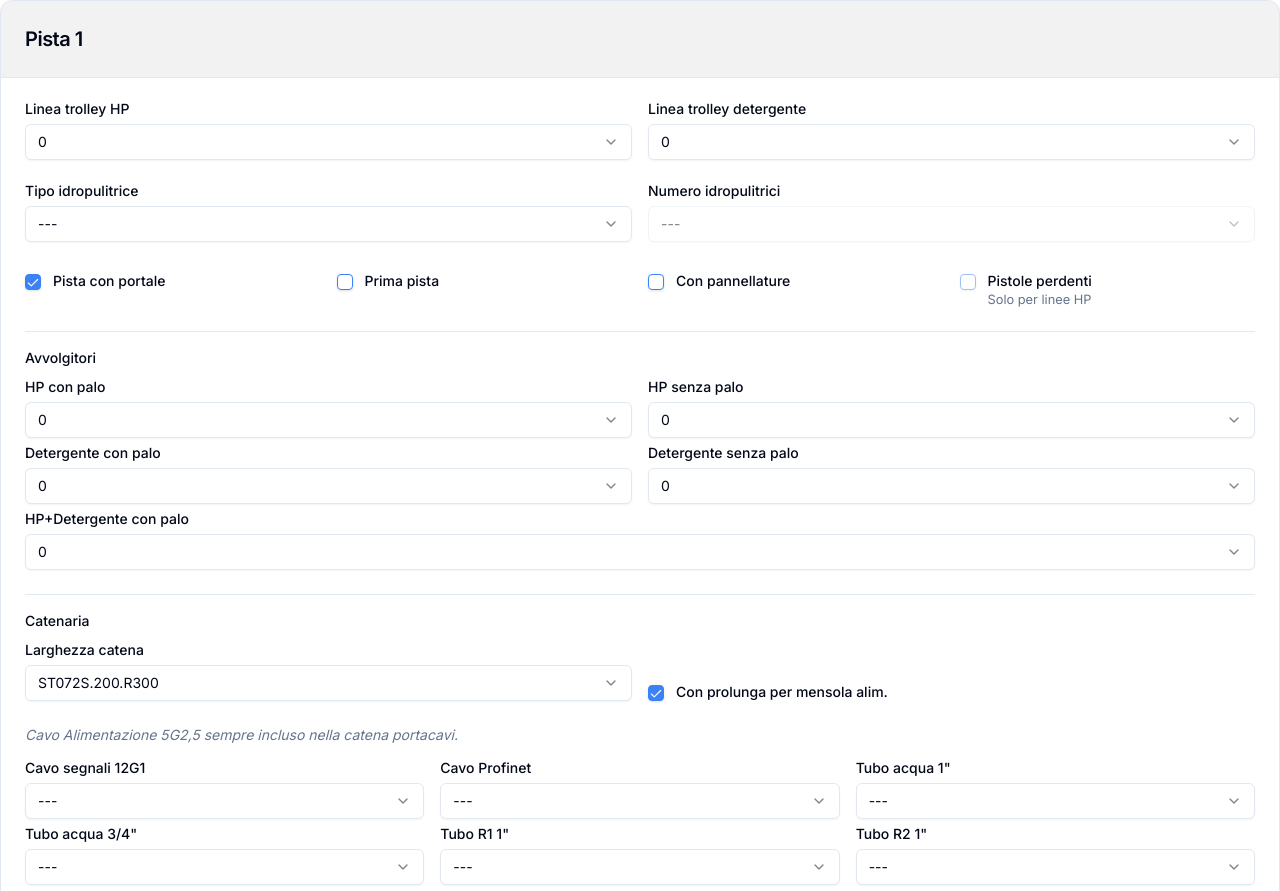
Test: SubRecordForm — WashBayForm › Conditional fields — energy chain › unchecking has_gantry resets energy_chain_width and has_shelf_extension
Expected: the text "Larghezza catena" is shown, [25,641,144,658]
# Uncheck has_gantry
Click the text "Pista con portale": (109, 281) [53,274,166,288]
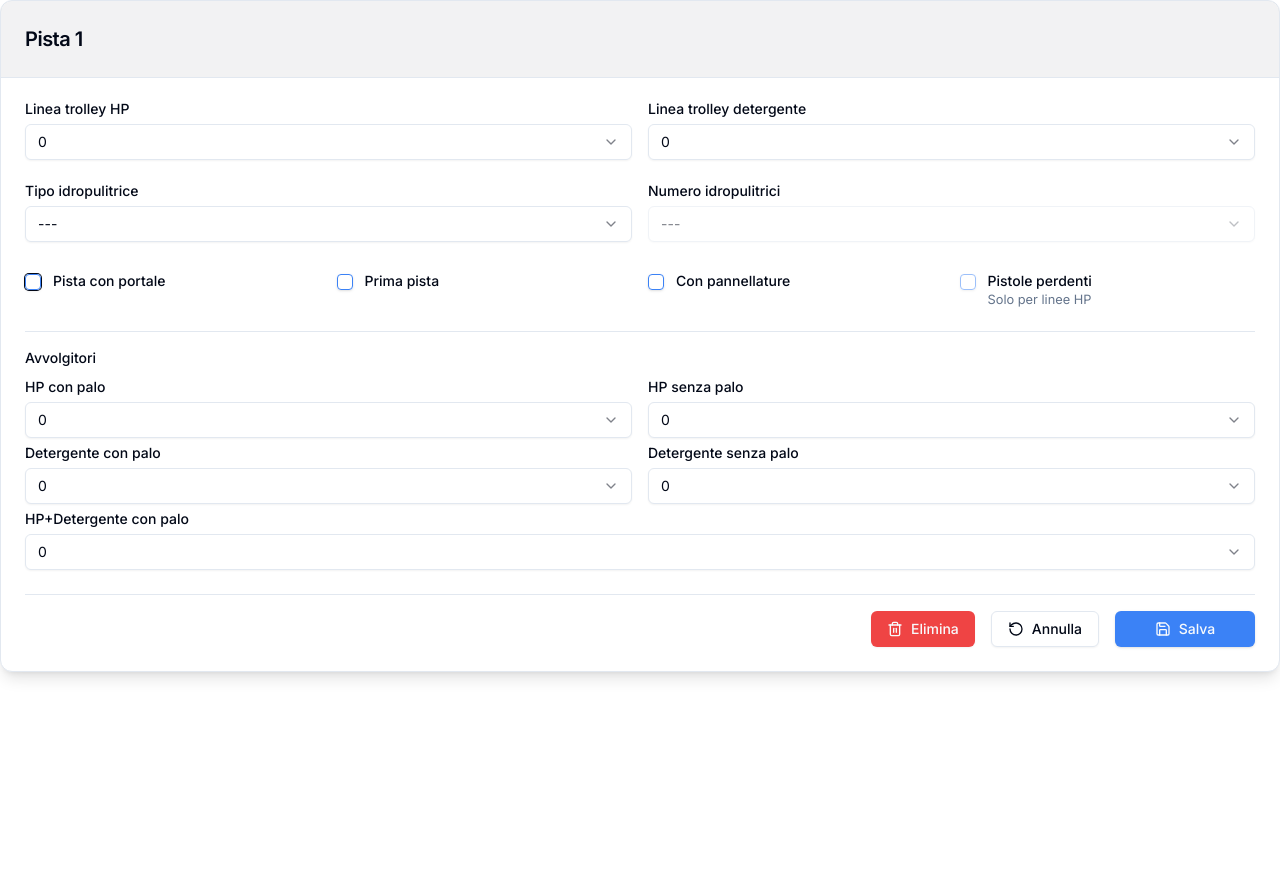
Result: the text "Larghezza catena" is gone
